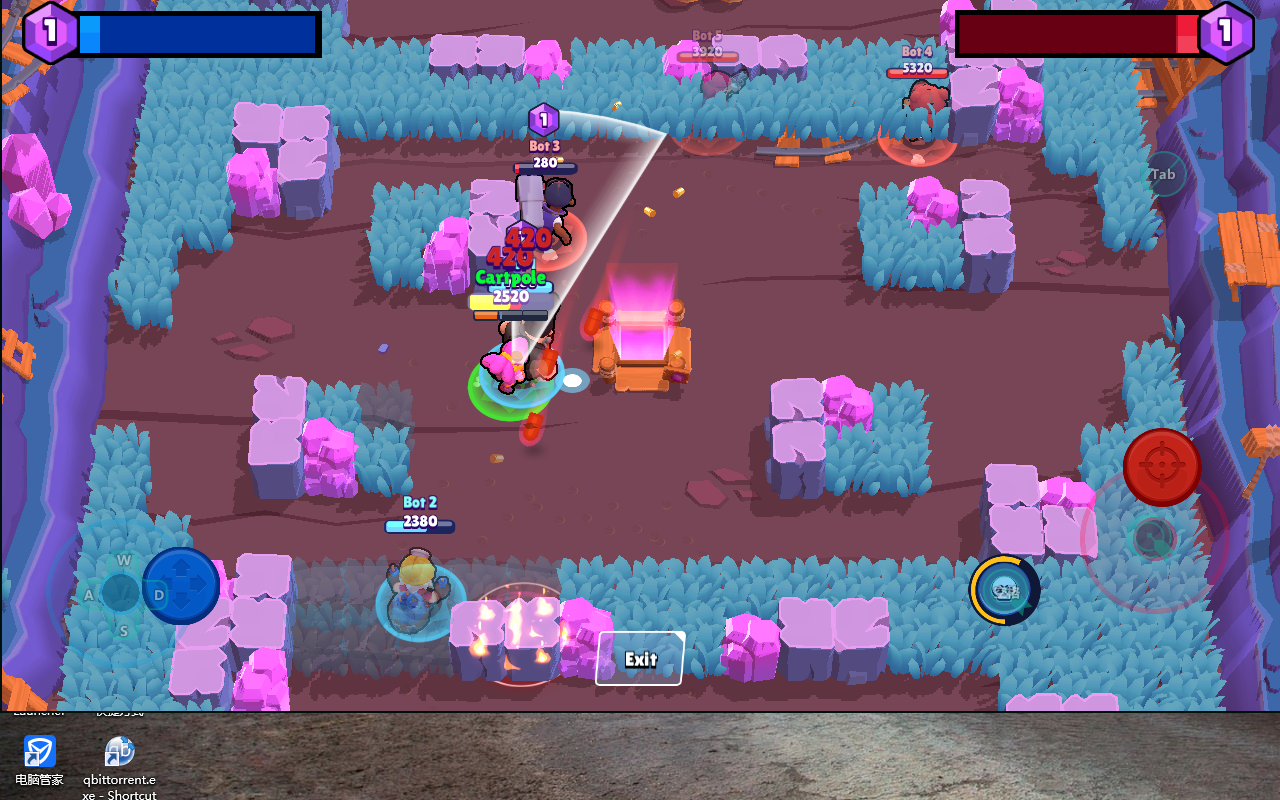current_player: (466, 355, 551, 423)
